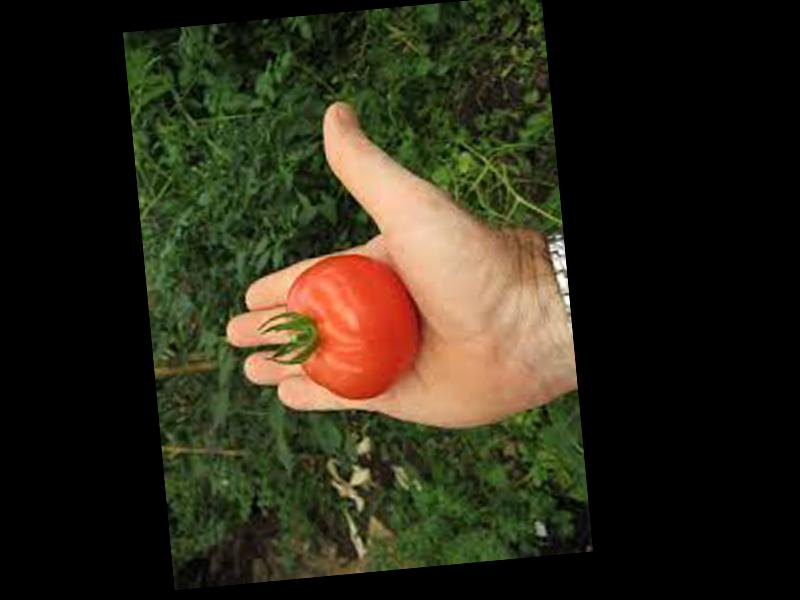Tomato: (283, 247, 424, 407)
